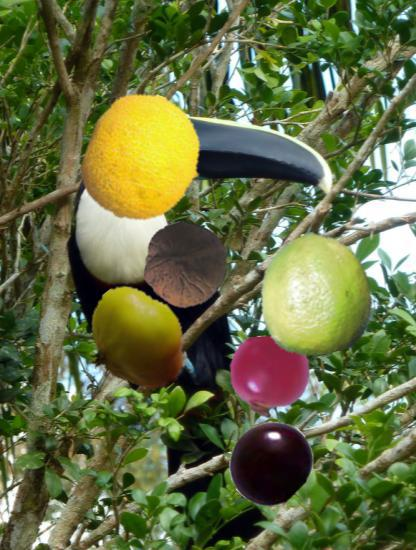Apple: (78, 285, 192, 399)
Cantaloupe: (80, 94, 210, 224)
Cherry: (227, 419, 315, 507)
Limes: (254, 233, 377, 356)
Redcurrant: (229, 336, 312, 419)
Walnut: (142, 221, 230, 309)
